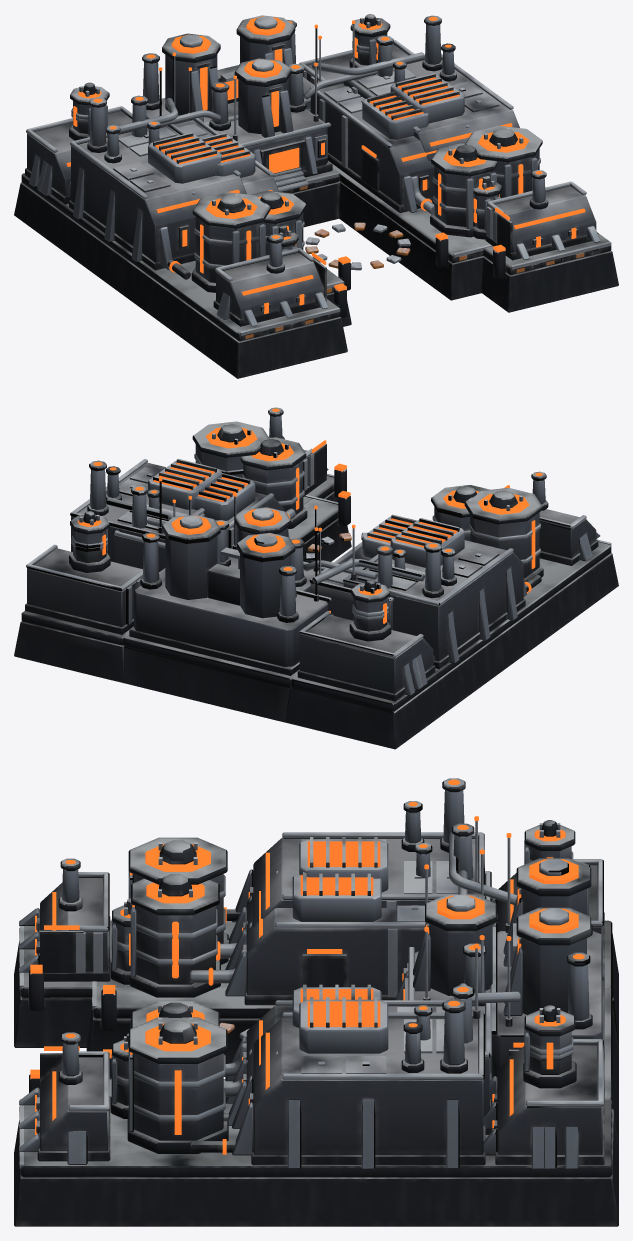
The model's file is facility-compounds-v2-remodel.glb.
3 views of the same model, one above another, from view 1: azimuth 30°, elevation 25°; view 2: azimuth 150°, elevation 25°; view 3: azimuth 270°, elevation 25° (orthographic). The views are drawn at different scales.
Visible parts, largest first — view 1: facility_vesper_large, facility_vesper; view 2: facility_vesper_large, facility_vesper; view 3: facility_vesper_large, facility_vesper.
Part boxes in pixels (x1,y1,x2,y2): facility_vesper_large: [14, 14, 618, 378]; facility_vesper: [131, 35, 497, 326]; facility_vesper_large: [14, 407, 618, 749]; facility_vesper: [113, 437, 489, 629]; facility_vesper_large: [14, 778, 618, 1226]; facility_vesper: [86, 823, 496, 1135].
Size of the model in its own units: 8.71 by 3.55 by 8.83.
2 materials, 1 textured.
